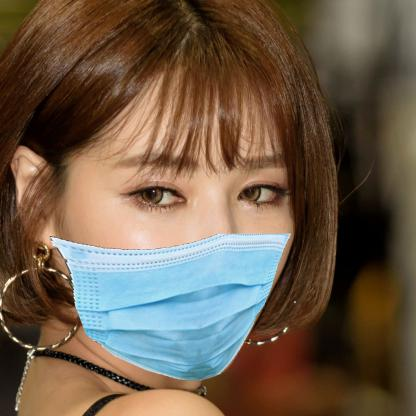Correctly_Masked: (54, 112, 296, 388)
